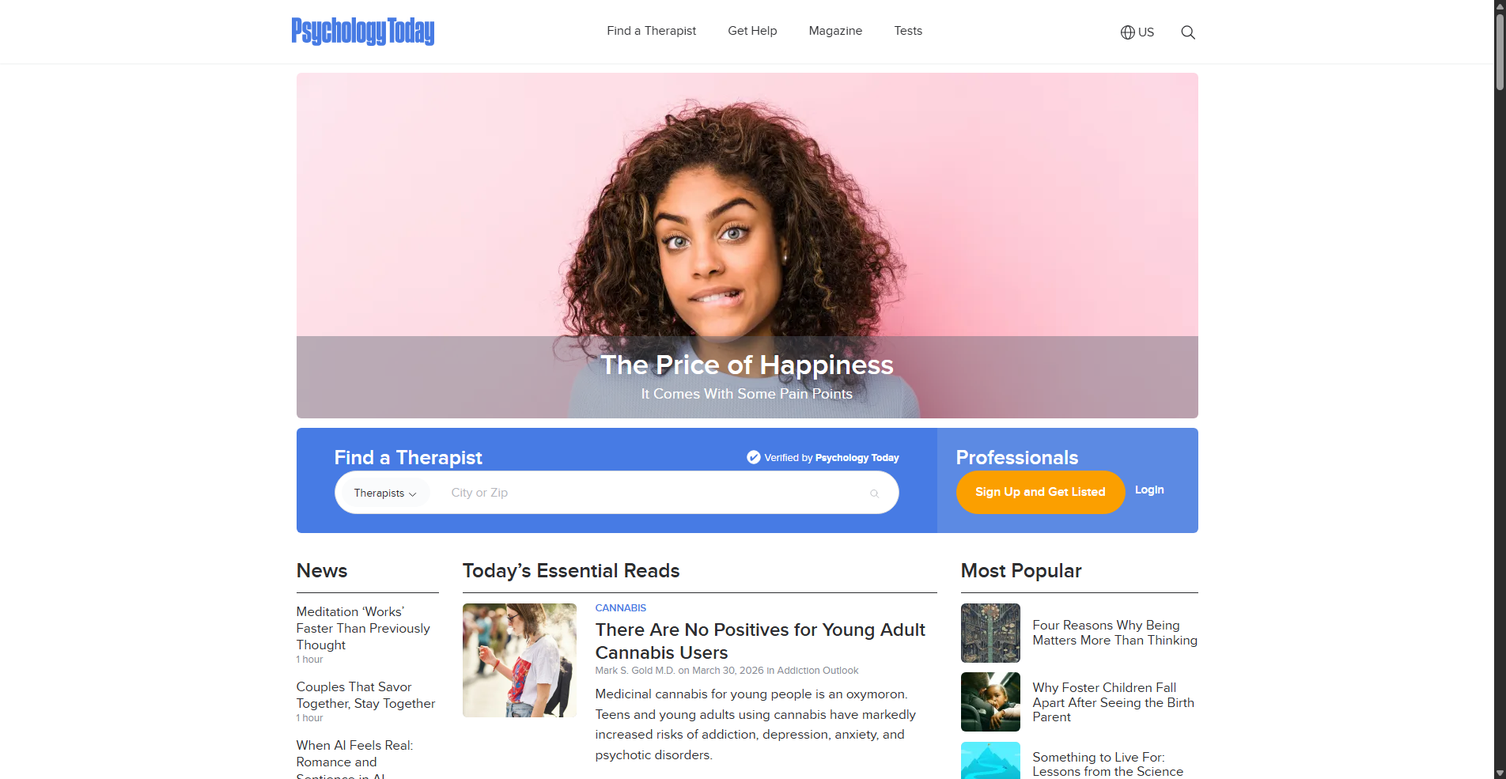button: (956, 471, 1125, 514), (341, 478, 431, 507), (857, 480, 892, 505), (296, 697, 315, 716)
input: (436, 471, 851, 513)
link: (296, 73, 1198, 418), (595, 615, 925, 666), (462, 558, 937, 593), (1033, 678, 1194, 726), (296, 602, 430, 654), (1033, 616, 1198, 649), (296, 736, 413, 779), (296, 558, 439, 593), (296, 677, 435, 713), (1033, 747, 1183, 779), (334, 442, 482, 472), (291, 17, 434, 46), (594, 15, 709, 49), (961, 603, 1020, 662), (961, 673, 1020, 732), (796, 15, 875, 49), (715, 15, 790, 49), (961, 742, 1020, 779), (462, 650, 576, 668), (882, 15, 935, 49), (777, 663, 859, 677), (595, 663, 675, 677), (1170, 17, 1206, 48), (595, 600, 646, 615), (1121, 23, 1154, 41), (1135, 481, 1164, 499), (0, 63, 1, 64)
